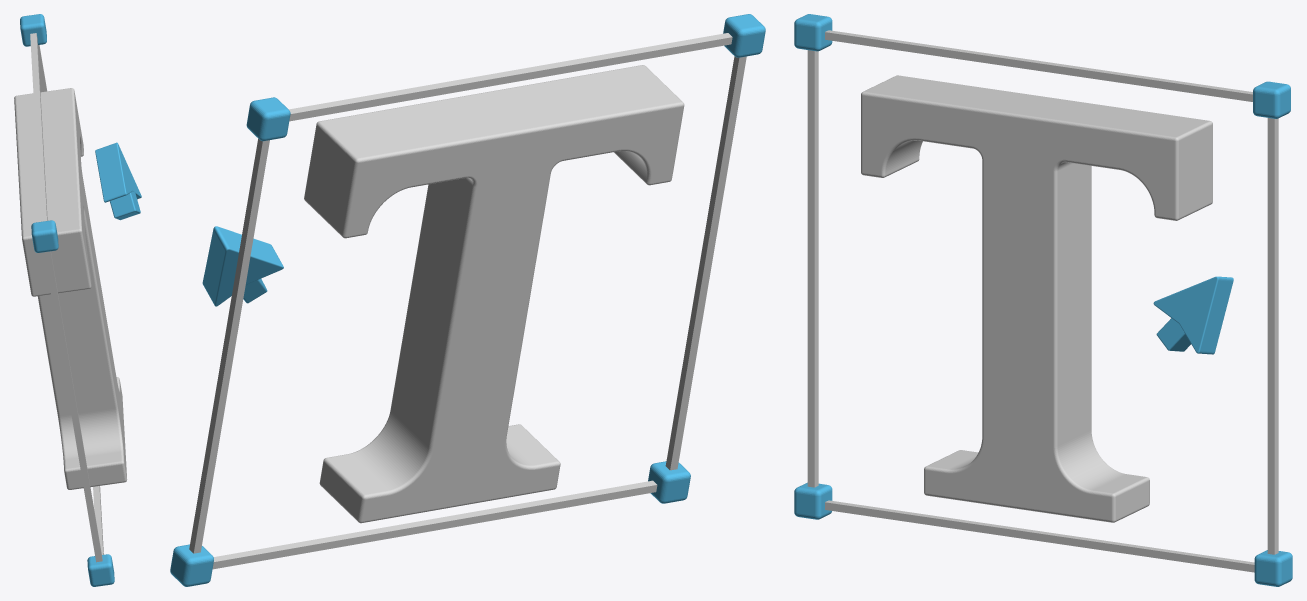
File: type.glb
The picture shows the model from 3 angles, left to right: view 1: azimuth 30°, elevation 25°; view 2: azimuth 150°, elevation 25°; view 3: azimuth 270°, elevation 25°; orthographic projection. The views are drawn at different scales.
Parts seen in each view (by area): view 1: letter/glass, select-frame/glass, mouse/color, select-cube/color.003, select-cube/color.002, select-cube/color.001; view 2: letter/glass, select-frame/glass, mouse/color, select-cube/color.001, select-cube/color, select-cube/color.003, select-cube/color.002; view 3: letter/glass, select-frame/glass, mouse/color, select-cube/color.001, select-cube/color, select-cube/color.003, select-cube/color.002.
Boxes of the visible parts, x1,y1,x2,y2 form: letter/glass: (14, 88, 127, 489); select-frame/glass: (30, 33, 103, 562); mouse/color: (95, 142, 141, 220); select-cube/color.003: (31, 220, 58, 252); select-cube/color.002: (87, 554, 114, 586); select-cube/color.001: (20, 14, 46, 46); letter/glass: (304, 65, 684, 523); select-frame/glass: (189, 33, 746, 569); mouse/color: (202, 226, 283, 306); select-cube/color.001: (246, 97, 290, 141); select-cube/color: (170, 544, 213, 586); select-cube/color.003: (723, 14, 765, 57); select-cube/color.002: (648, 461, 690, 503); letter/glass: (861, 75, 1212, 522); select-frame/glass: (807, 30, 1278, 572); mouse/color: (1153, 276, 1233, 354); select-cube/color.001: (1253, 81, 1290, 118); select-cube/color: (1254, 550, 1292, 586); select-cube/color.003: (794, 14, 832, 51); select-cube/color.002: (794, 482, 832, 519).
Size of the model in its own units: 1.55 by 2.25 by 2.02.
